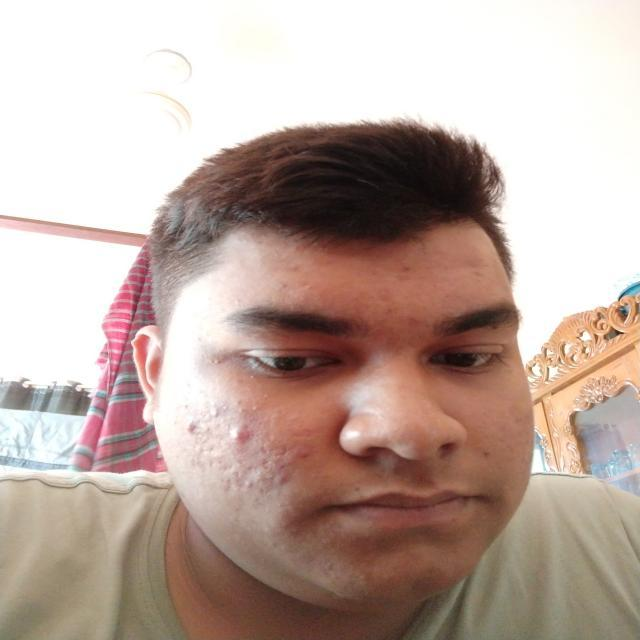Acne: (369, 246, 424, 300), (158, 402, 212, 456), (212, 405, 264, 459), (346, 548, 394, 604), (286, 436, 326, 483), (473, 436, 513, 475)
